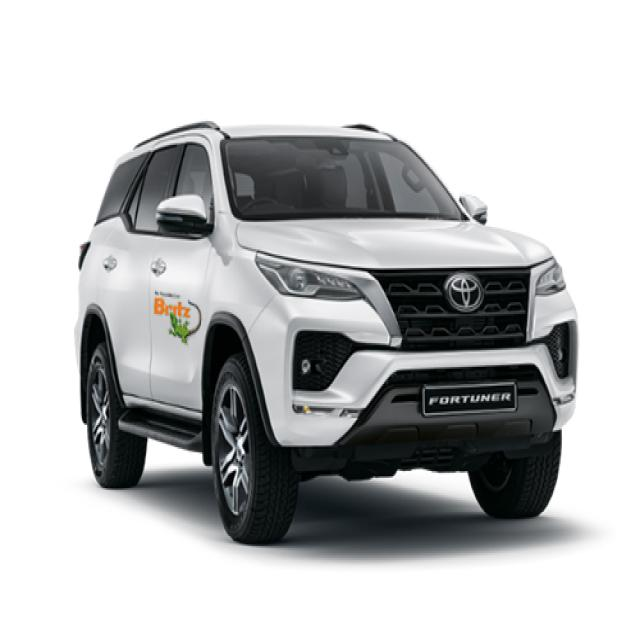light_vehicle: (74, 120, 579, 546)
